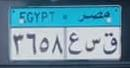3: (12, 34, 25, 56)
5: (39, 37, 49, 54)
6: (26, 33, 37, 56)
8: (53, 34, 62, 54)
ain: (69, 32, 82, 55)
qaaf: (103, 32, 118, 54)
seen: (85, 36, 102, 52)
